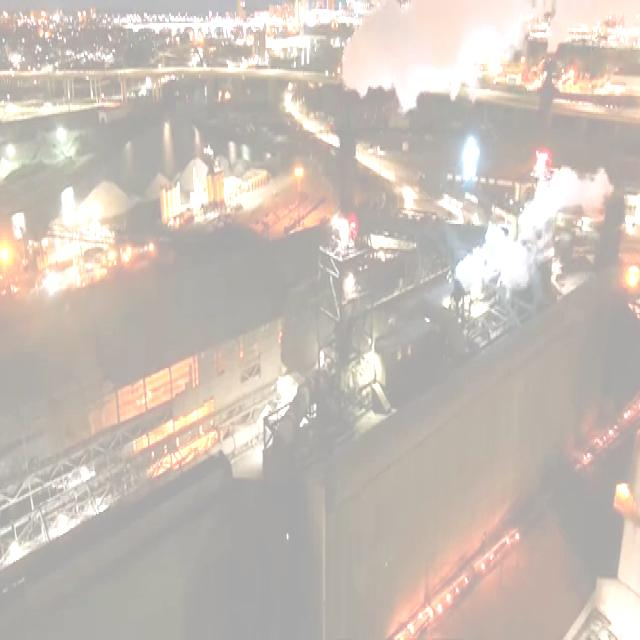smoke: (345, 0, 536, 112), (519, 153, 615, 242), (451, 217, 534, 299)
